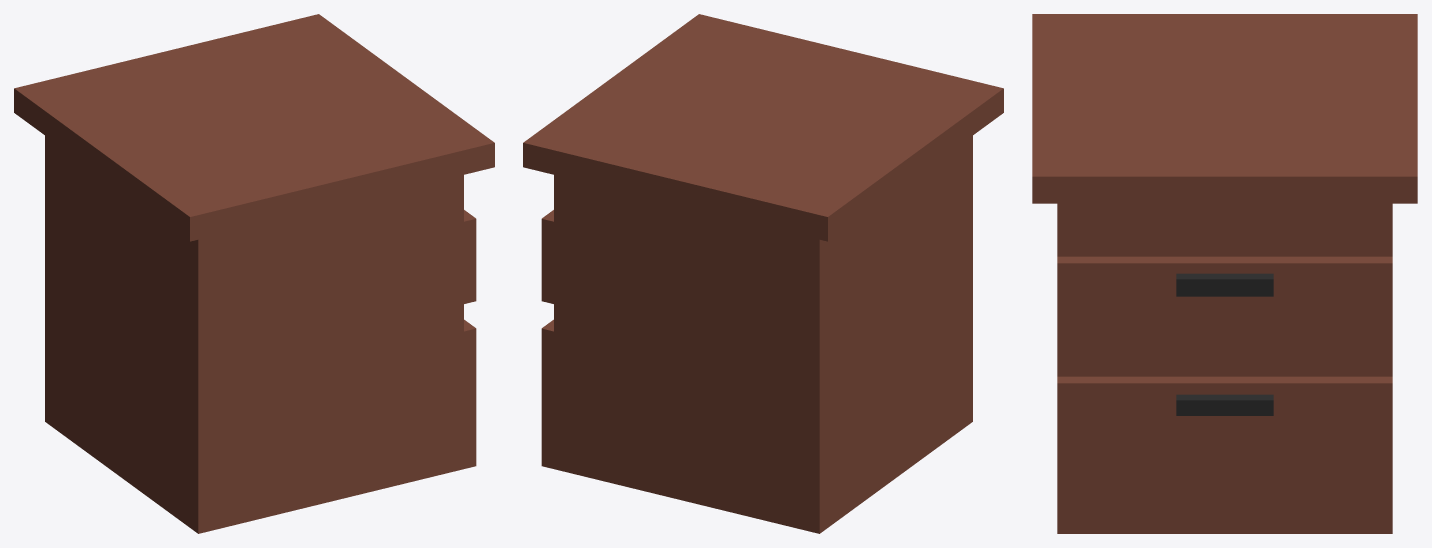
Rendered from nightstand.fbx.
3 views of the same model, side by side, from view 1: azimuth 30°, elevation 25°; view 2: azimuth 150°, elevation 25°; view 3: azimuth 270°, elevation 25° (orthographic). The views are drawn at different scales.
Visible parts, largest first — view 1: Cube.002; view 2: Cube.002; view 3: Cube.002.
Boxes of the visible parts, x1=… form: Cube.002: x1=14, y1=14, x2=494, y2=533; Cube.002: x1=523, y1=14, x2=1003, y2=533; Cube.002: x1=1032, y1=14, x2=1417, y2=533.
Size of the model in its own units: 317 by 324 by 313.
